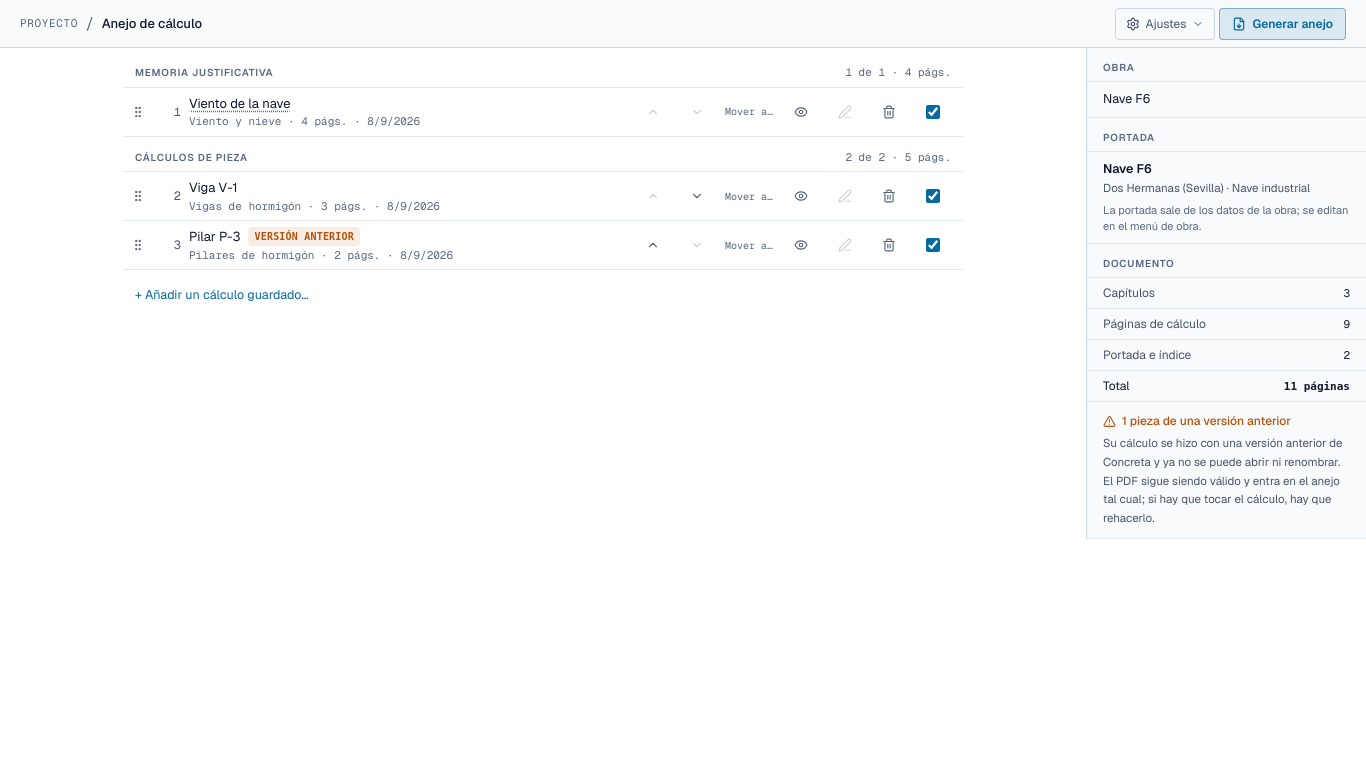
it: Anejo de cálculo › la casilla «incluir» quita el número, actualiza el contador y se guarda
Click the checkbox named "Incluir «Pilar P-3» en el anejo".
click(933, 245)  # box left=926, top=238, right=940, bottom=252
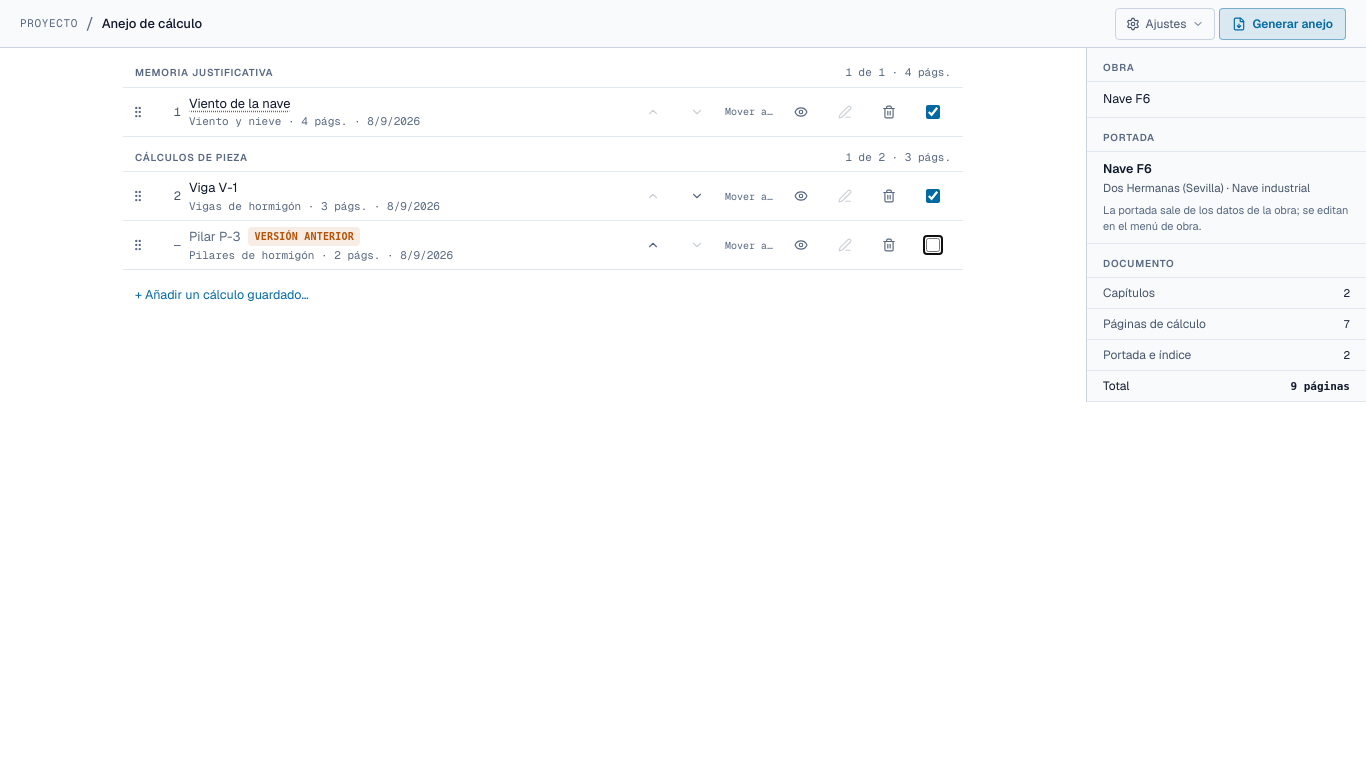
Check: the text "—" is shown, box left=174, top=237, right=181, bottom=253
Check: the text "2" in the row of "Capítulos" is shown, box left=1343, top=286, right=1350, bottom=300
Check: the text "9 páginas" is shown, box left=1290, top=379, right=1350, bottom=395
